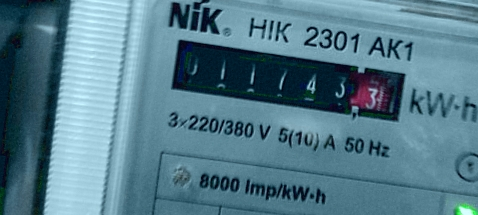0: (183, 49, 201, 78)
1: (244, 57, 260, 86), (215, 53, 229, 81)
3: (332, 72, 349, 100), (362, 85, 379, 112)
4: (302, 68, 320, 96)
7: (273, 61, 291, 91)
screen: (158, 27, 419, 134)
